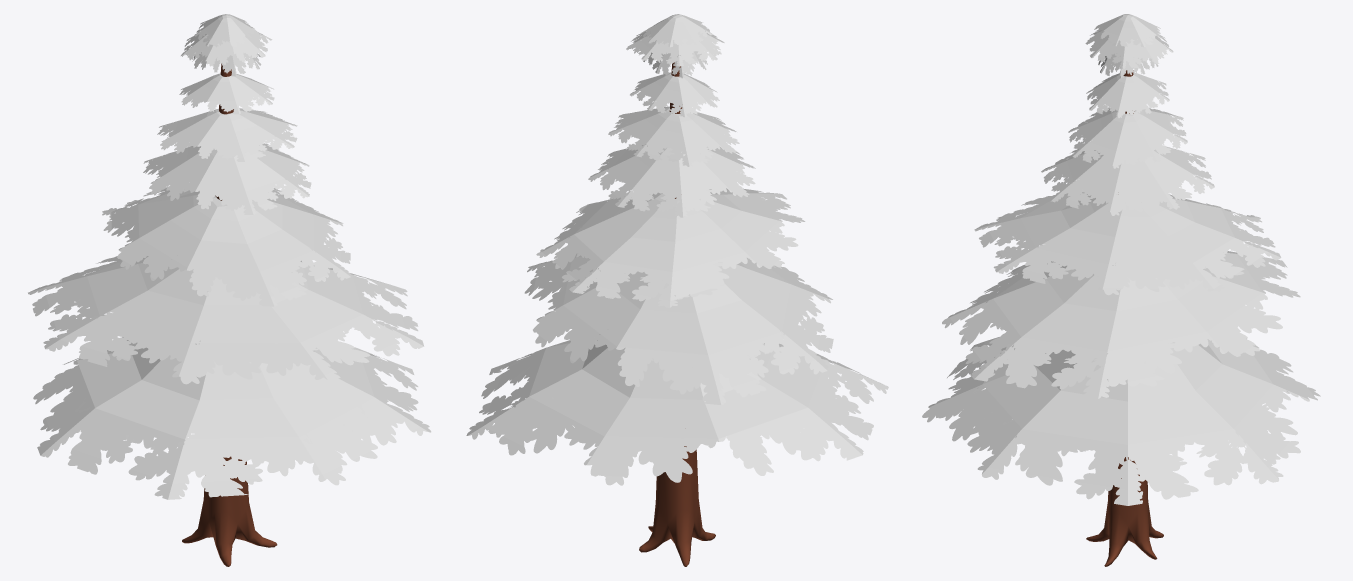
File: tree3.fbx
3 views of the same model, side by side, from view 1: azimuth 30°, elevation 25°; view 2: azimuth 150°, elevation 25°; view 3: azimuth 270°, elevation 25° (orthographic).
Parts seen in each view (by area): view 1: tree3_lp; view 2: tree3_lp; view 3: tree3_lp.
Boxes of the visible parts, left/top/right/bottom form: tree3_lp: left=28, top=14, right=431, bottom=566; tree3_lp: left=466, top=14, right=888, bottom=566; tree3_lp: left=922, top=14, right=1320, bottom=566.
Bounding box in the file's own units: 1852 × 2540 × 1812.
